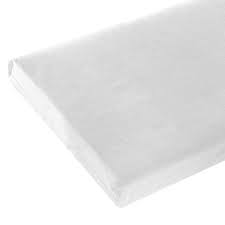bed-matress: (7, 1, 225, 208)
